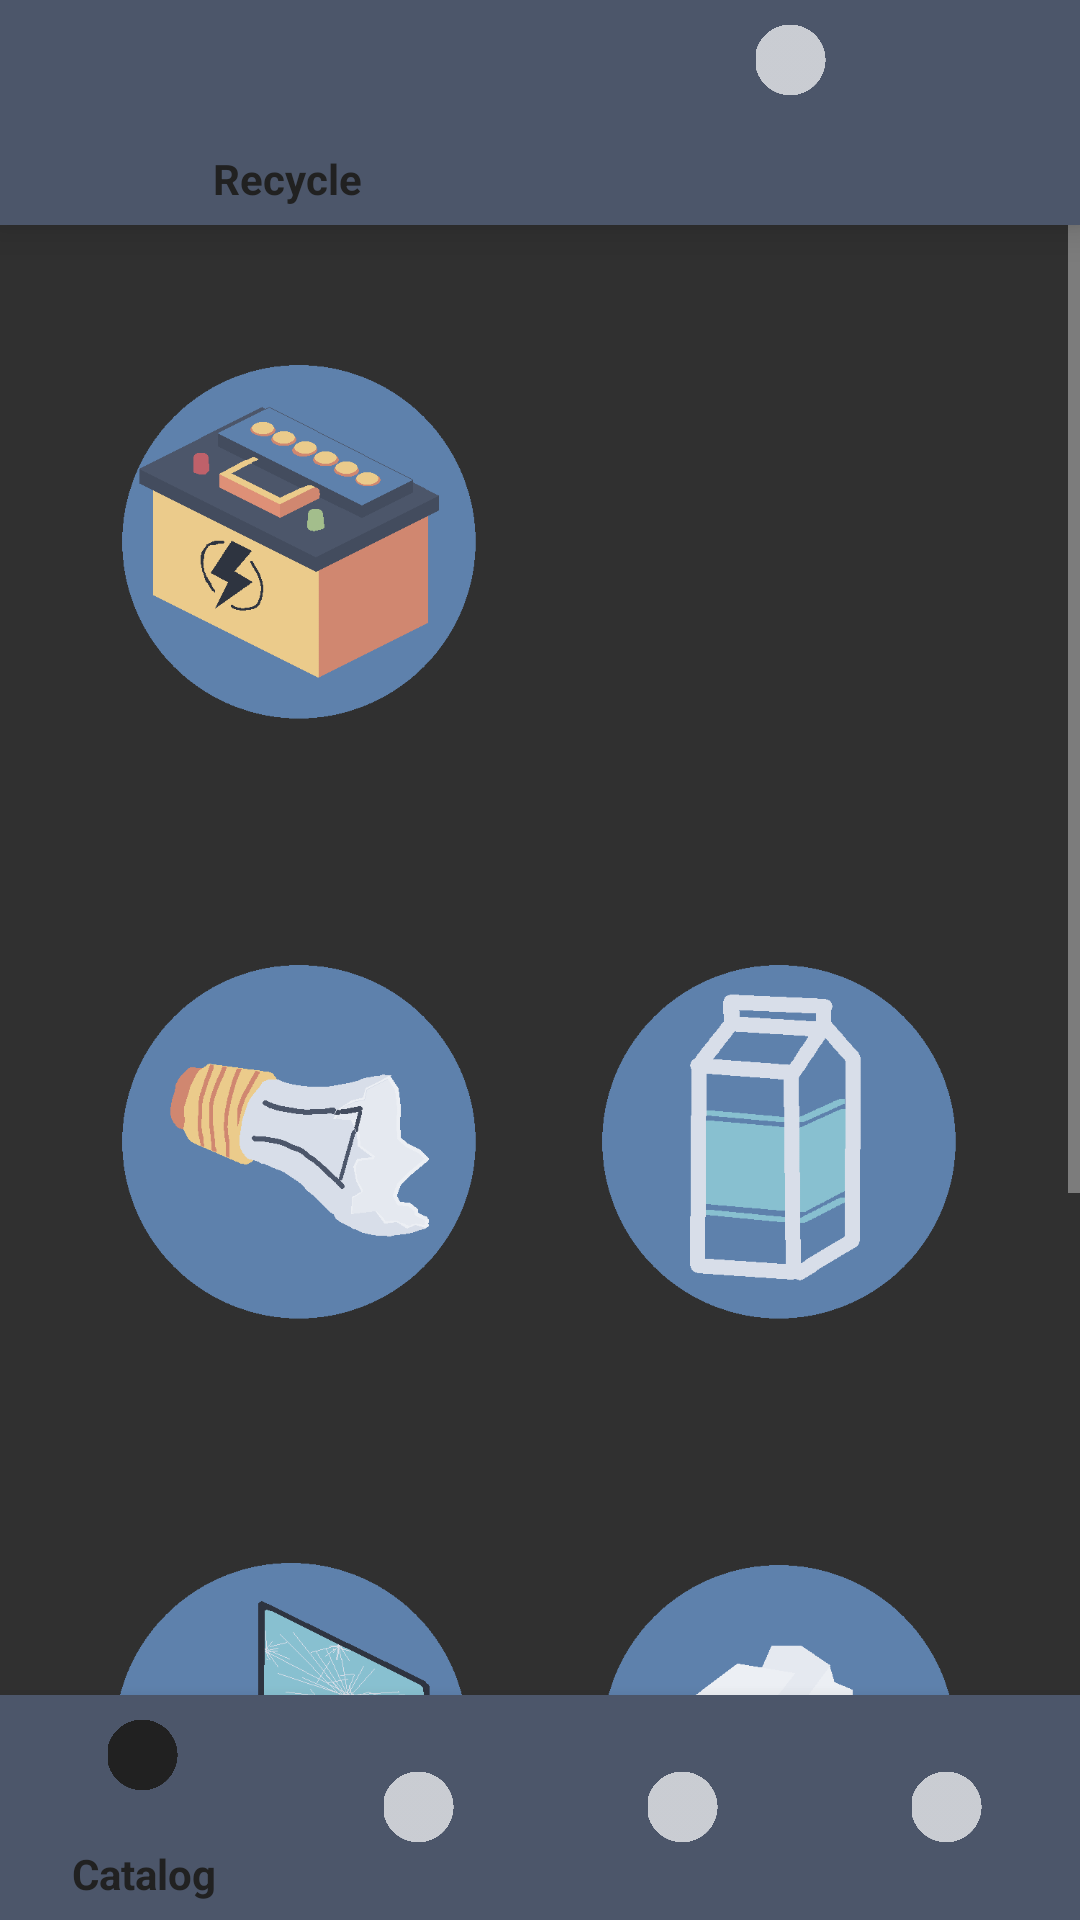

Where to tap for icons on this 1080 × 1920 app screen, as point (x, y):
Batteries: point (299, 542)
Bulbs: point (299, 1142)
